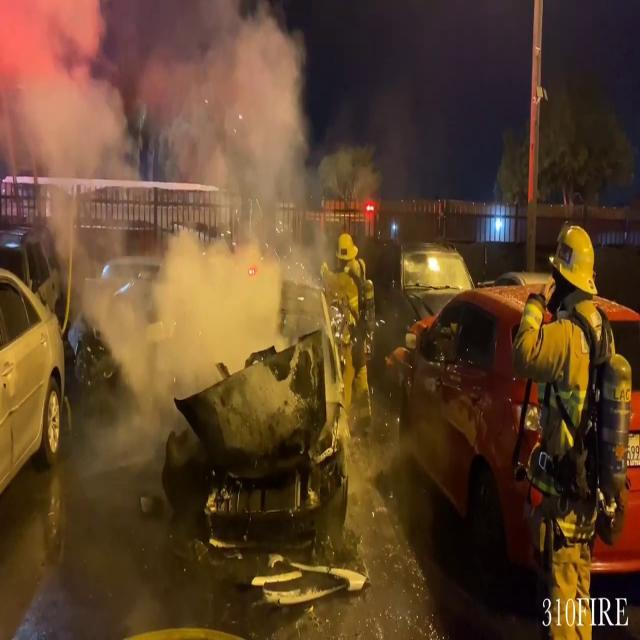Smoke: (0, 0, 335, 380)
